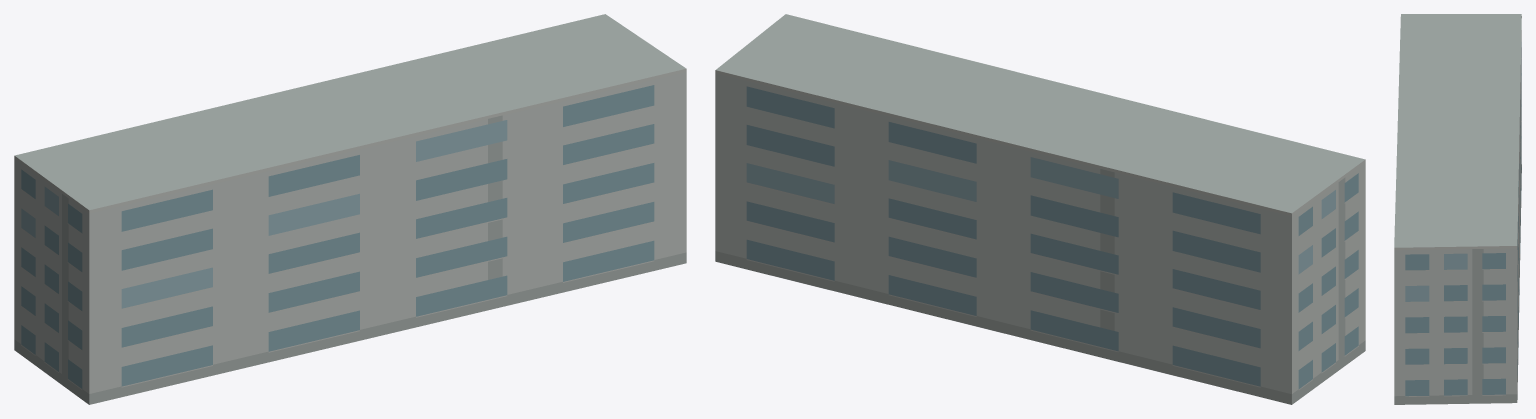
Rendered from residential-3df4b4a1-15e0-45e2-8259-f57f4e1e3184.glb.
3 renders of one model, left to right at view 1: azimuth 30°, elevation 25°; view 2: azimuth 150°, elevation 25°; view 3: azimuth 270°, elevation 25°, orthographic. The views are drawn at different scales.
Parts seen in each view (by area): view 1: residential-3df4b4a1-15e0-45e2-8259-f57f4e1e3184.tmp; view 2: residential-3df4b4a1-15e0-45e2-8259-f57f4e1e3184.tmp; view 3: residential-3df4b4a1-15e0-45e2-8259-f57f4e1e3184.tmp.
Part boxes in pixels (x1=…): residential-3df4b4a1-15e0-45e2-8259-f57f4e1e3184.tmp: x1=14, y1=14, x2=686, y2=404; residential-3df4b4a1-15e0-45e2-8259-f57f4e1e3184.tmp: x1=715, y1=14, x2=1365, y2=404; residential-3df4b4a1-15e0-45e2-8259-f57f4e1e3184.tmp: x1=1394, y1=14, x2=1521, y2=404.
Size of the model in its own units: 48.66 by 15.25 by 11.23.
